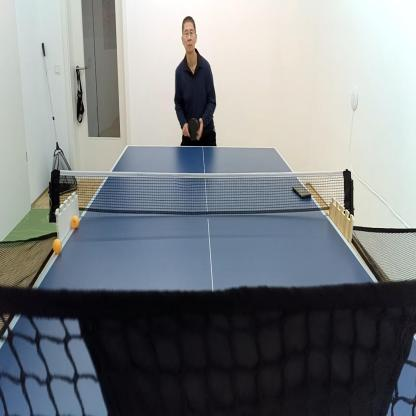Ball: (52, 237, 62, 255), (70, 214, 80, 230)
